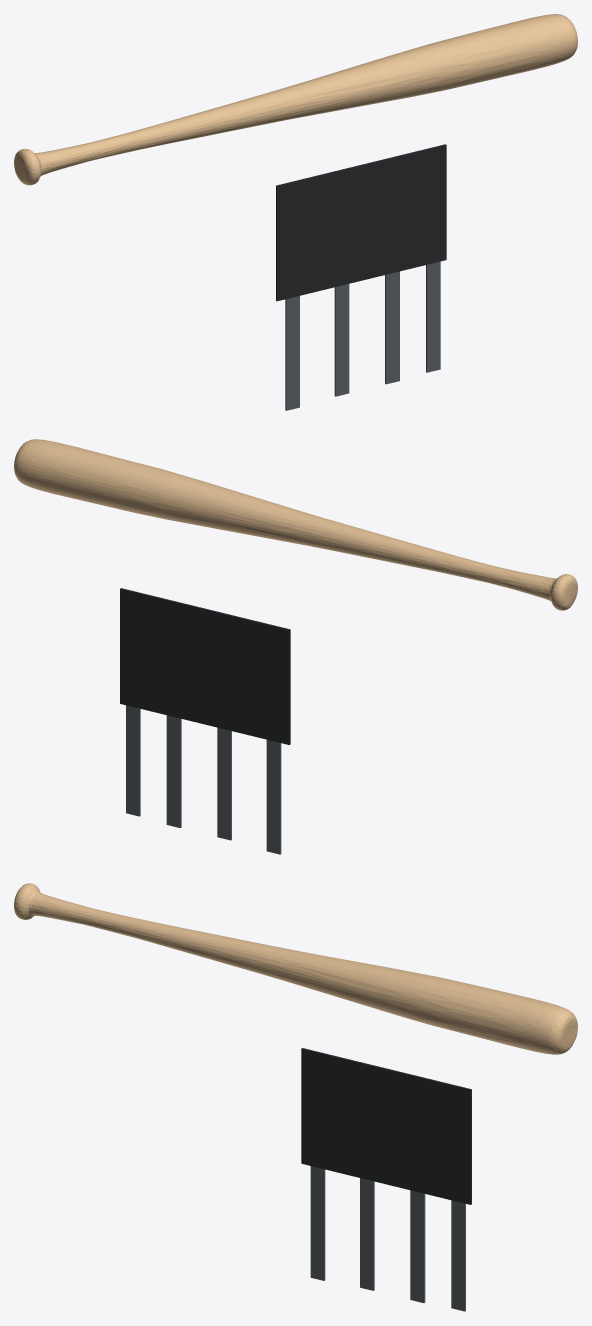
The model's file is ArmStrap.obj.
3 views of the same model, one above another, from view 1: azimuth 30°, elevation 25°; view 2: azimuth 150°, elevation 25°; view 3: azimuth 330°, elevation 25° (orthographic).
Visible parts, largest first — view 1: group_0_14860437, group_0_2829873, group_0_6383466; view 2: group_0_14860437, group_0_2829873, group_0_6383466; view 3: group_0_14860437, group_0_2829873, group_0_6383466.
Boxes of the visible parts, left/top/right/bottom form: group_0_14860437: left=14, top=14, right=577, bottom=185; group_0_2829873: left=276, top=144, right=446, bottom=301; group_0_6383466: left=285, top=261, right=440, bottom=410; group_0_14860437: left=14, top=439, right=577, bottom=610; group_0_2829873: left=120, top=588, right=290, bottom=744; group_0_6383466: left=126, top=705, right=281, bottom=854; group_0_14860437: left=14, top=883, right=577, bottom=1054; group_0_2829873: left=301, top=1048, right=471, bottom=1204; group_0_6383466: left=310, top=1166, right=465, bottom=1311.
Bounding box in the file's own units: 762 × 453 × 63.5.
